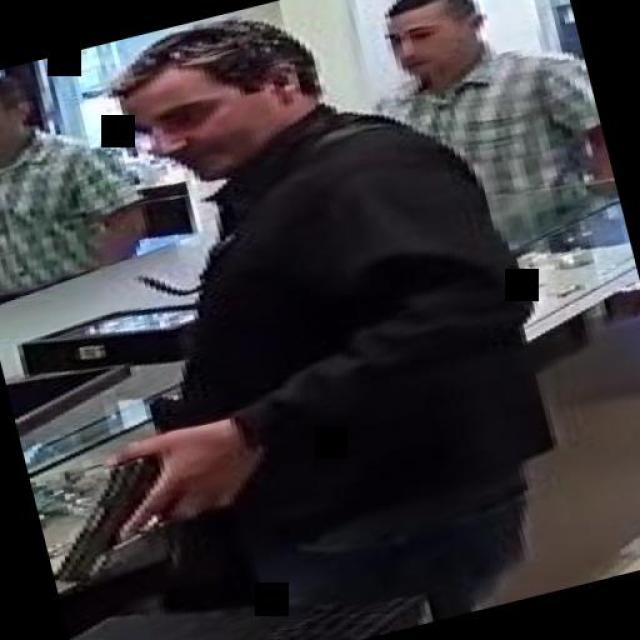gun: (27, 422, 245, 588)
